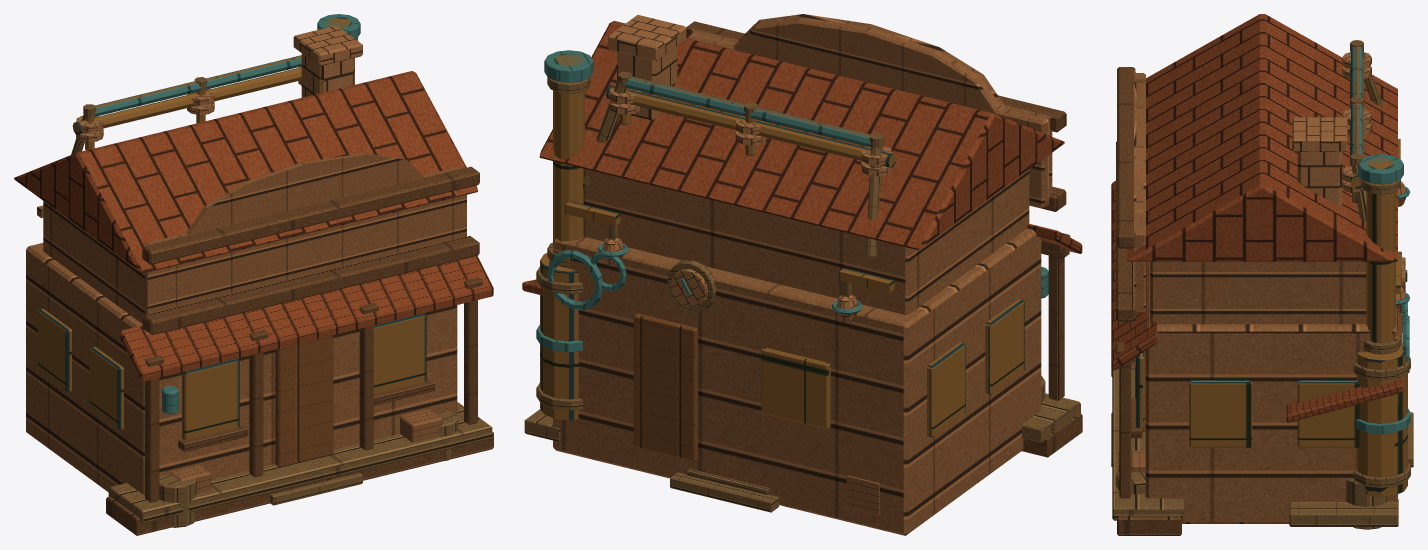
File: general-store.e3.glb
The picture shows the model from 3 angles, left to right: view 1: azimuth 30°, elevation 25°; view 2: azimuth 150°, elevation 25°; view 3: azimuth 270°, elevation 25°; orthographic projection. The views are drawn at different scales.
Parts seen in each view (by area): view 1: GeneralStoreE3; view 2: GeneralStoreE3; view 3: GeneralStoreE3.
Part boxes in pixels (<box>): GeneralStoreE3: <box>14,14,493,535</box>; GeneralStoreE3: <box>522,14,1082,535</box>; GeneralStoreE3: <box>1111,14,1413,535</box>.
Size of the model in its own units: 4.7 by 4.44 by 3.26.
1 material, 1 textured.
